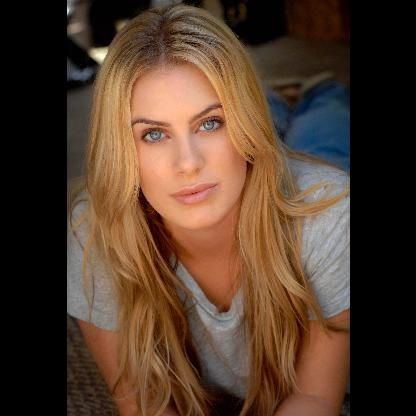Female: (130, 60, 246, 228)
